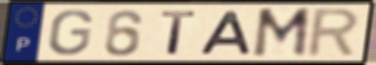6: (103, 8, 145, 58)
A: (197, 10, 254, 56)
G: (46, 8, 95, 57)
M: (250, 6, 314, 60)
R: (303, 6, 363, 60)
T: (159, 9, 200, 56)
